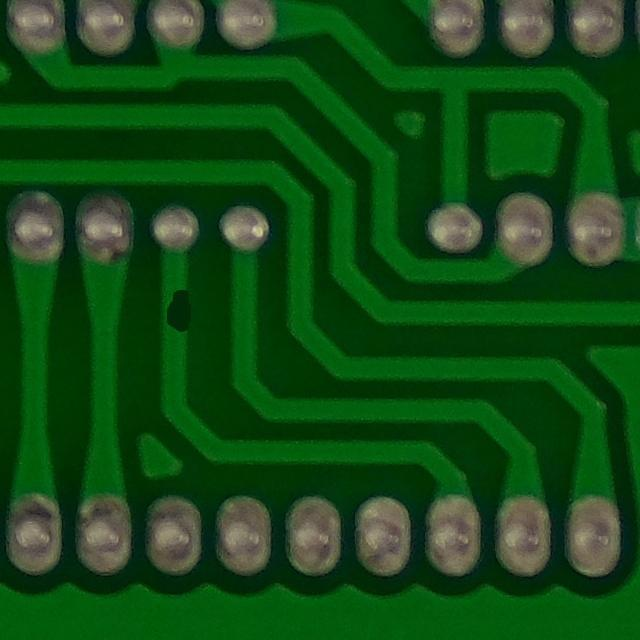mouse_bite: (147, 272, 209, 344)
